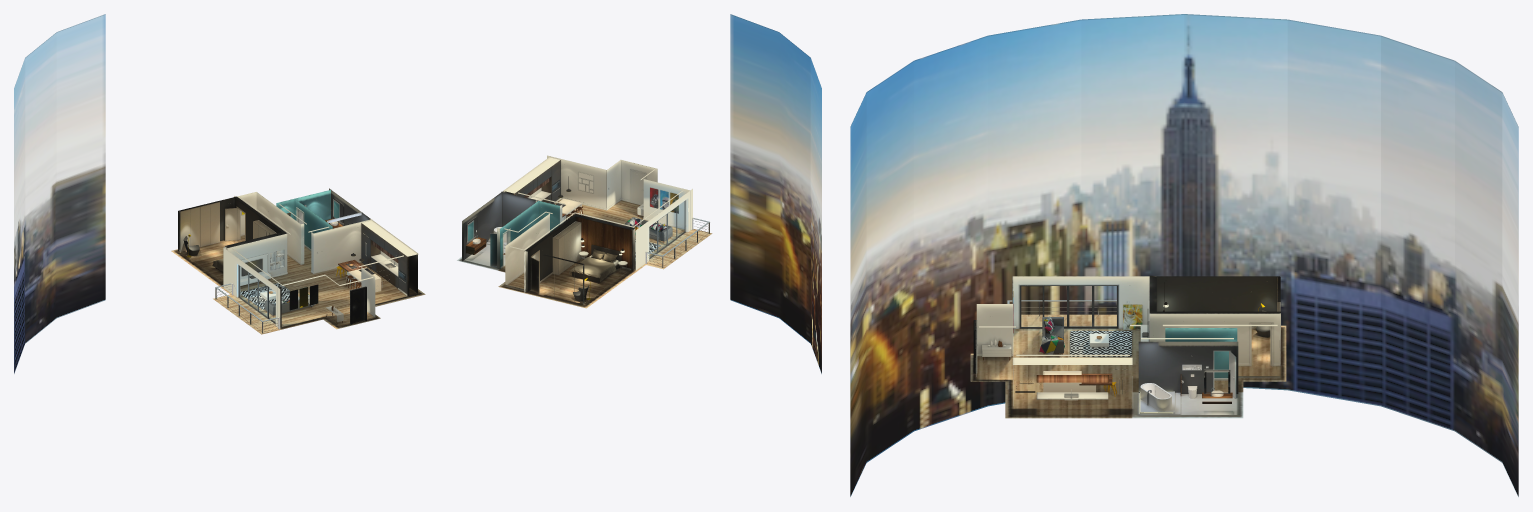
The model's file is apartment.glb.
3 renders of one model, left to right at view 1: azimuth 30°, elevation 25°; view 2: azimuth 150°, elevation 25°; view 3: azimuth 270°, elevation 25°, orthographic. The views are drawn at different scales.
Visible parts, largest first — view 1: SM_BG, SM_Floor, SM_HallFrames_miniCounter_SkirtingBoard, SM_wallKitchen_q1, SM_KitchenPanel, SM_WallLiving_q5, SM_RoomCabs, SM_Doors, SM_PaintingsWindow_Rails, SM_WallLiving_Q2_3, SM_KitchenBath_WALL, SM_Tv_Rack_cTable_Bowl1 (+4 smaller); view 2: SM_BG, SM_Floor, SM_WallLiving_Q3_4, SM_WallLiving_q5, SM_wallKitchen_q1, SM_HallFrames_miniCounter_SkirtingBoard, SM_KitchenPanel, SM_RoomCabs, SM_KitchenBath_WALL, SM_Doors, SM_PaintingsWindow_Rails, SM_WallLiving_Q2_3 (+3 smaller); view 3: SM_BG, SM_Floor, SM_Room_WALL, SM_wallKitchen_q1, SM_WallLiving_q5, SM_WallLiving_Q2_3, SM_KitchenPanel, SM_PaintingsWindow_Rails, SM_HallFrames_miniCounter_SkirtingBoard, SM_WallLiving_Q3_4, SM_ToiletTub, SM_Rug (+3 smaller).
Boxes of the visible parts, x1=… form: SM_BG: x1=14, y1=14, x2=105, y2=373; SM_Floor: x1=171, y1=235, x2=425, y2=334; SM_HallFrames_miniCounter_SkirtingBoard: x1=179, y1=190, x2=407, y2=318; SM_wallKitchen_q1: x1=294, y1=199, x2=371, y2=271; SM_KitchenPanel: x1=361, y1=220, x2=418, y2=295; SM_WallLiving_q5: x1=225, y1=196, x2=287, y2=275; SM_RoomCabs: x1=179, y1=201, x2=276, y2=251; SM_Doors: x1=225, y1=204, x2=366, y2=324; SM_PaintingsWindow_Rails: x1=215, y1=265, x2=318, y2=333; SM_WallLiving_Q2_3: x1=223, y1=247, x2=281, y2=327; SM_KitchenBath_WALL: x1=329, y1=188, x2=417, y2=293; SM_Tv_Rack_cTable_Bowl1: x1=240, y1=254, x2=275, y2=300; SM_BG: x1=730, y1=14, x2=821, y2=373; SM_Floor: x1=457, y1=199, x2=712, y2=308; SM_WallLiving_Q3_4: x1=547, y1=155, x2=692, y2=230; SM_WallLiving_q5: x1=524, y1=214, x2=635, y2=291; SM_wallKitchen_q1: x1=497, y1=191, x2=562, y2=269; SM_HallFrames_miniCounter_SkirtingBoard: x1=500, y1=197, x2=684, y2=303; SM_KitchenPanel: x1=505, y1=157, x2=560, y2=203; SM_RoomCabs: x1=543, y1=221, x2=584, y2=304; SM_KitchenBath_WALL: x1=462, y1=156, x2=550, y2=261; SM_Doors: x1=490, y1=169, x2=646, y2=293; SM_PaintingsWindow_Rails: x1=635, y1=187, x2=709, y2=267; SM_WallLiving_Q2_3: x1=635, y1=190, x2=690, y2=270; SM_BG: x1=850, y1=14, x2=1518, y2=496; SM_Floor: x1=970, y1=314, x2=1286, y2=418; SM_Room_WALL: x1=1156, y1=276, x2=1280, y2=326; SM_wallKitchen_q1: x1=1138, y1=341, x2=1238, y2=393; SM_WallLiving_q5: x1=1149, y1=275, x2=1280, y2=365; SM_WallLiving_Q2_3: x1=1012, y1=276, x2=1149, y2=326; SM_KitchenPanel: x1=1012, y1=357, x2=1132, y2=399; SM_PaintingsWindow_Rails: x1=1007, y1=284, x2=1142, y2=332; SM_HallFrames_miniCounter_SkirtingBoard: x1=976, y1=326, x2=1280, y2=408; SM_WallLiving_Q3_4: x1=976, y1=304, x2=1012, y2=353; SM_ToiletTub: x1=1138, y1=374, x2=1223, y2=414; SM_Rug: x1=1070, y1=330, x2=1132, y2=356.
Bounding box in the file's own units: 20.53 × 18.61 × 30.4.
41 materials, 40 textured.
